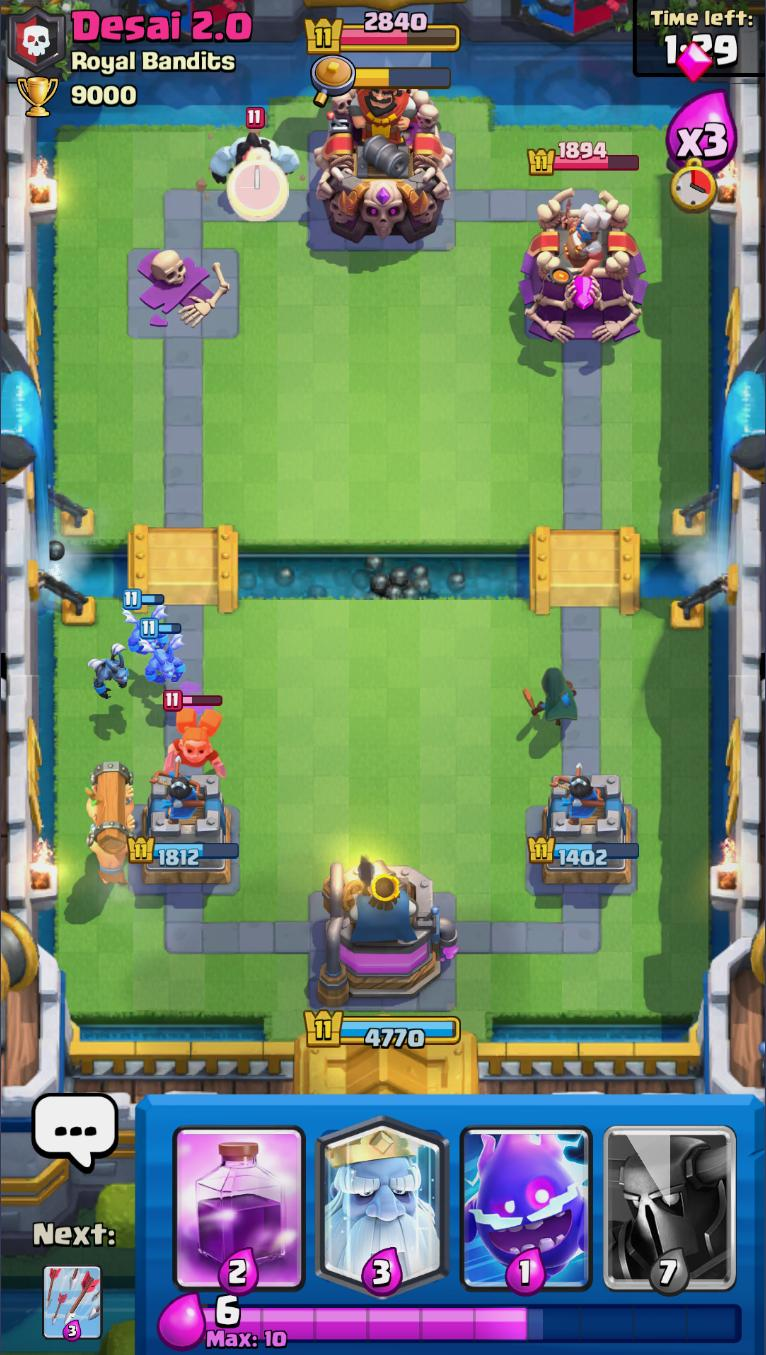ArrowNext: (41, 1264, 103, 1315)
Berserker: (161, 692, 228, 780)
Chef: (553, 198, 616, 277)
ElectroSpiritDeck: (455, 1096, 598, 1295)
Elixir: (204, 1293, 747, 1350)
EnemyTower: (517, 186, 649, 348)
EnemyTowerBrocken: (122, 240, 243, 340)
IceGolem: (211, 110, 302, 184)
KingTower: (312, 82, 455, 245)
KingTowerHP: (303, 9, 463, 56)
MyBandit: (520, 667, 579, 729)
MyBattleRam: (81, 759, 139, 890)
MyKingHP: (300, 1006, 462, 1051)
MyKingTower: (316, 851, 462, 1009)
MyMinion: (123, 587, 169, 666), (139, 618, 189, 688), (85, 642, 134, 702)
MyPrincessTower: (125, 770, 242, 892), (528, 775, 639, 894)
MyPrincessTowerHP: (528, 833, 642, 869), (128, 834, 244, 868)
PekkaDeck: (601, 1096, 741, 1296)
RageDeck: (166, 1095, 313, 1287)
RoyaleGhostDeck: (308, 1098, 451, 1296)
TowerPrincessHP: (527, 140, 643, 179)
